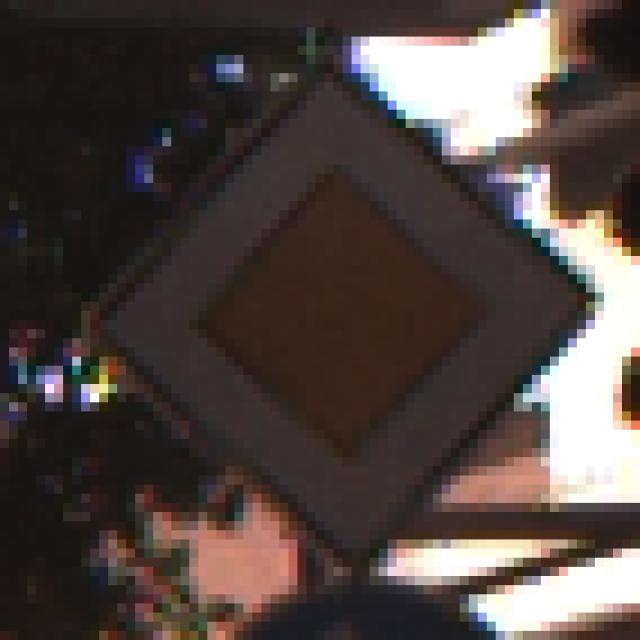Main Road: (55, 65, 578, 577)
